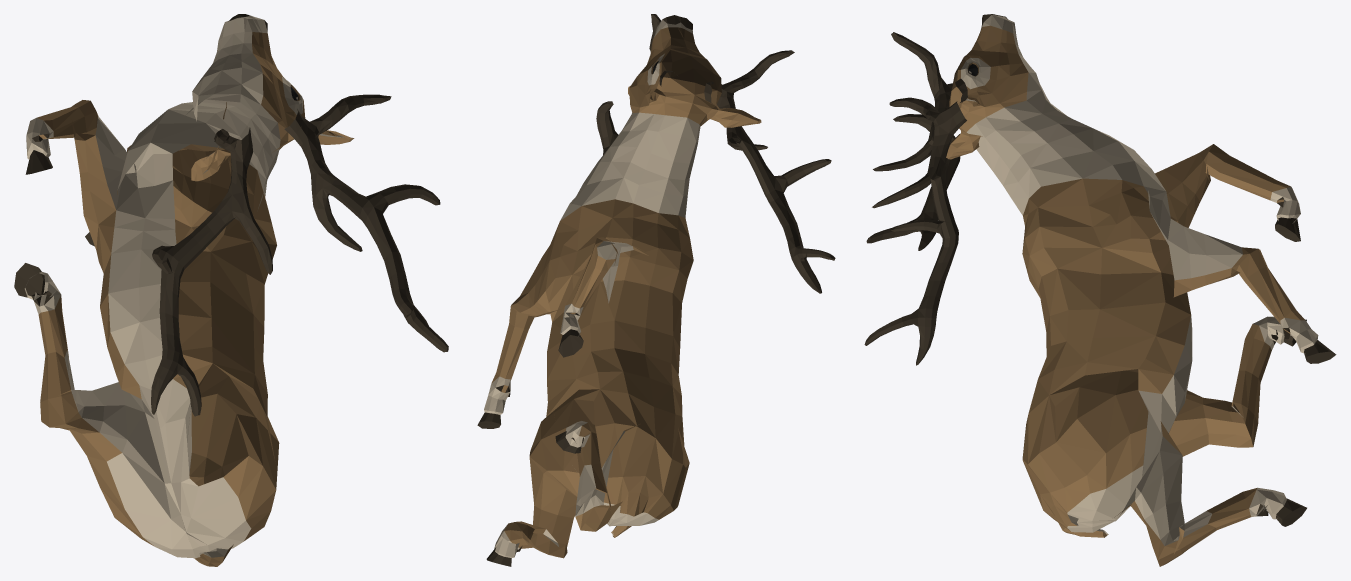
Rendered from stag-gallop-1.glb.
The picture shows the model from 3 angles, left to right: view 1: azimuth 30°, elevation 25°; view 2: azimuth 150°, elevation 25°; view 3: azimuth 270°, elevation 25°; orthographic projection. The views are drawn at different scales.
Bounding box in the file's own units: 0.8649 × 1.77 × 1.44.
